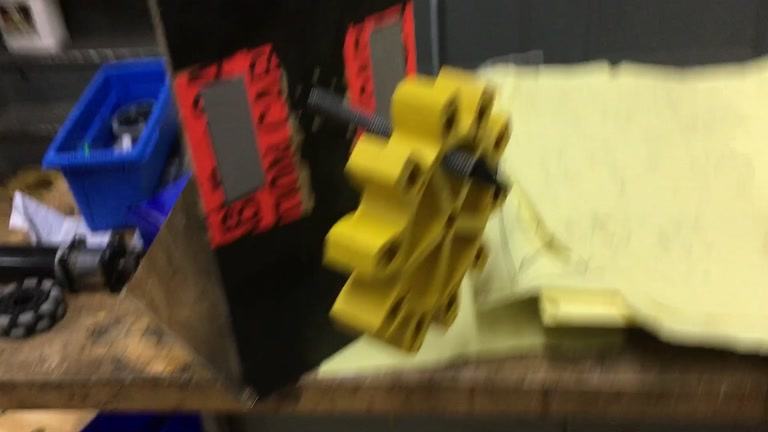gear: (324, 64, 518, 353)
